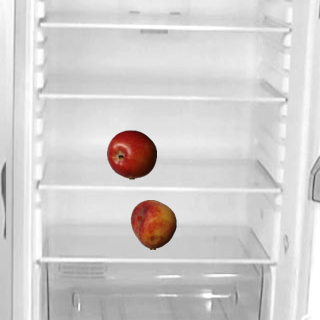Apple Braeburn: (106, 129, 156, 179)
Peach: (128, 199, 178, 249)
